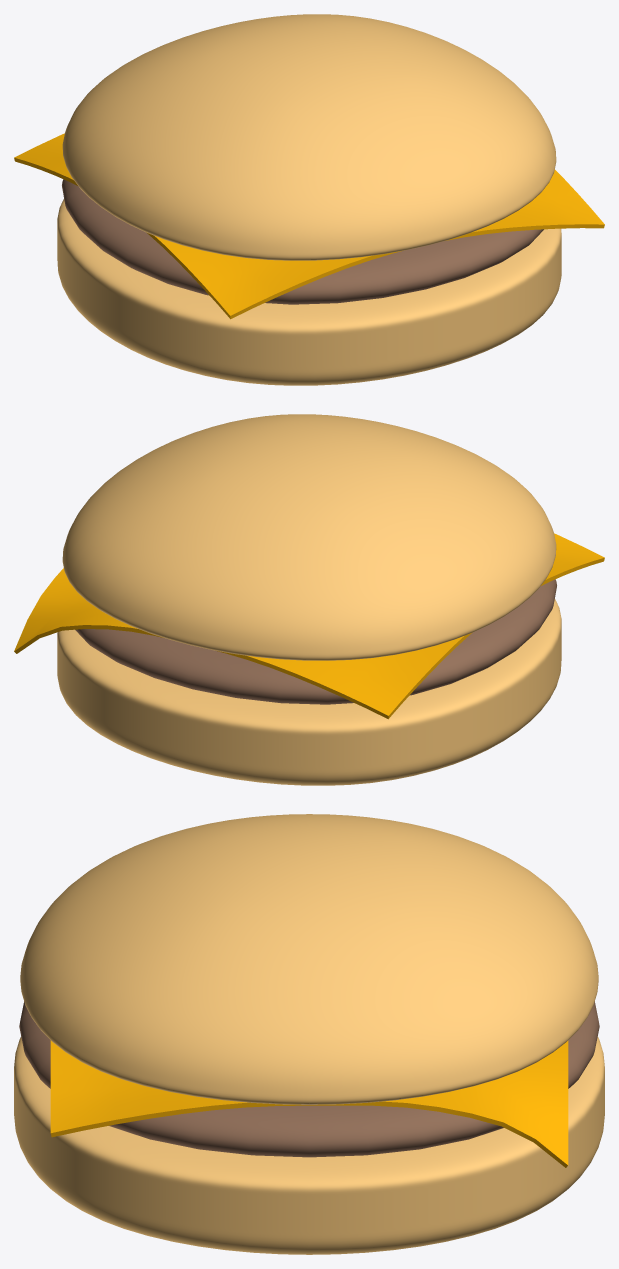
The model's file is hamburger.glb.
3 views of the same model, one above another, from view 1: azimuth 30°, elevation 25°; view 2: azimuth 150°, elevation 25°; view 3: azimuth 270°, elevation 25° (orthographic). The views are drawn at different scales.
Parts seen in each view (by area): view 1: Cube.002, Cube, Cube.001, Plane; view 2: Cube.002, Cube, Cube.001, Plane; view 3: Cube.002, Cube, Cube.001, Plane.
Part boxes in pixels (<box>): Cube.002: <box>62,14,556,260</box>; Cube: <box>57,199,561,385</box>; Cube.001: <box>62,179,543,304</box>; Plane: <box>14,133,604,319</box>; Cube.002: <box>62,414,556,660</box>; Cube: <box>57,599,561,785</box>; Cube.001: <box>75,579,556,704</box>; Plane: <box>14,533,604,719</box>; Cube.002: <box>20,814,598,1104</box>; Cube: <box>14,1036,604,1254</box>; Cube.001: <box>19,1001,599,1157</box>; Plane: <box>50,1040,568,1167</box>.
Size of the model in its own units: 9.2 by 5.18 by 9.2.
